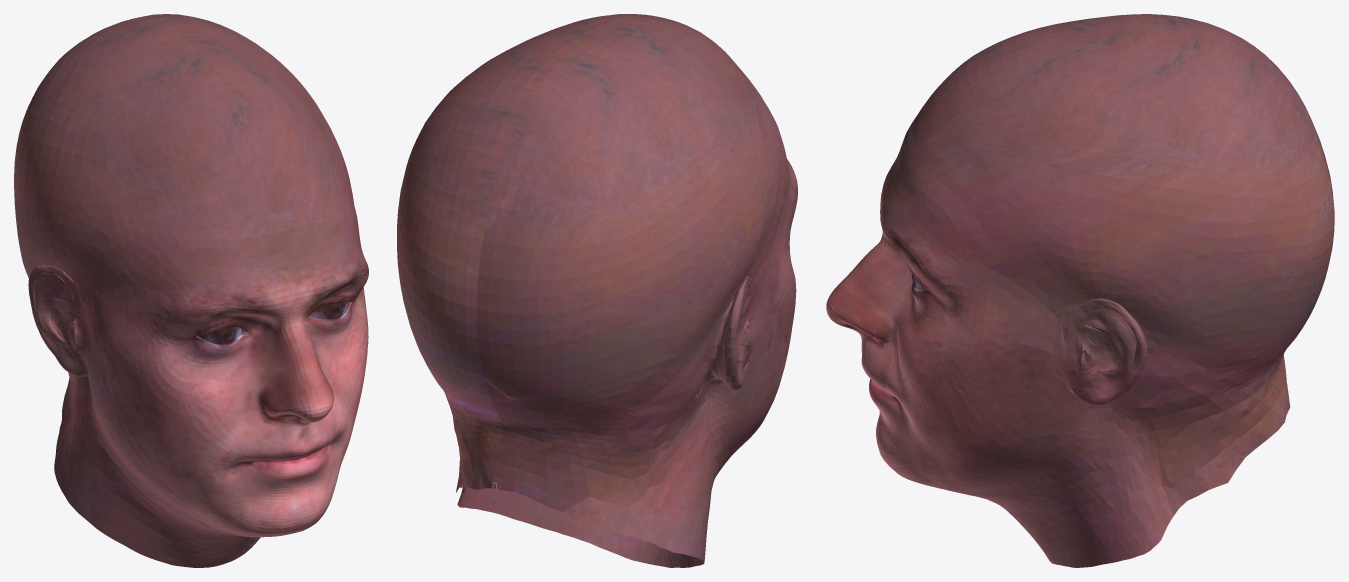
The model's file is result_prompt.obj.
3 views of the same model, side by side, from view 1: azimuth 30°, elevation 25°; view 2: azimuth 150°, elevation 25°; view 3: azimuth 270°, elevation 25° (orthographic). The views are drawn at different scales.
Bounding box in the file's own units: 194 × 312 × 273.
